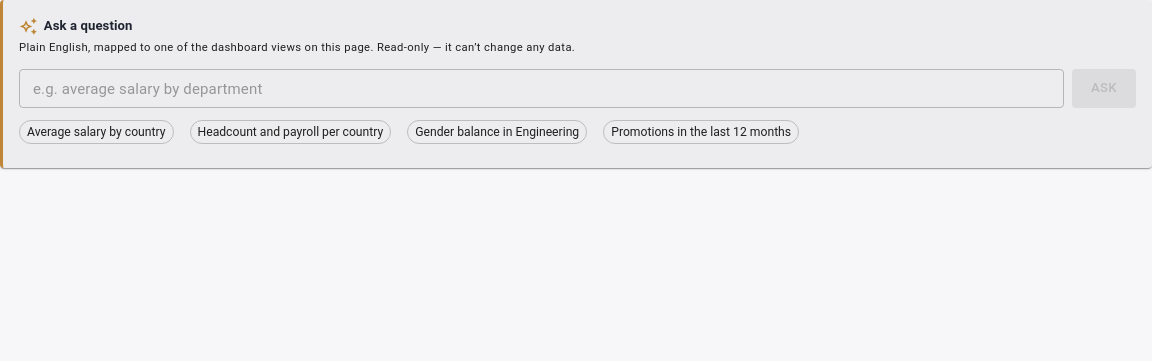
it: NLQueryBox › shows coercion notes when the backend adjusted a parameter
In the field named "Analytics question": (542,89) [19,69,1064,108], type "payroll trend forever"
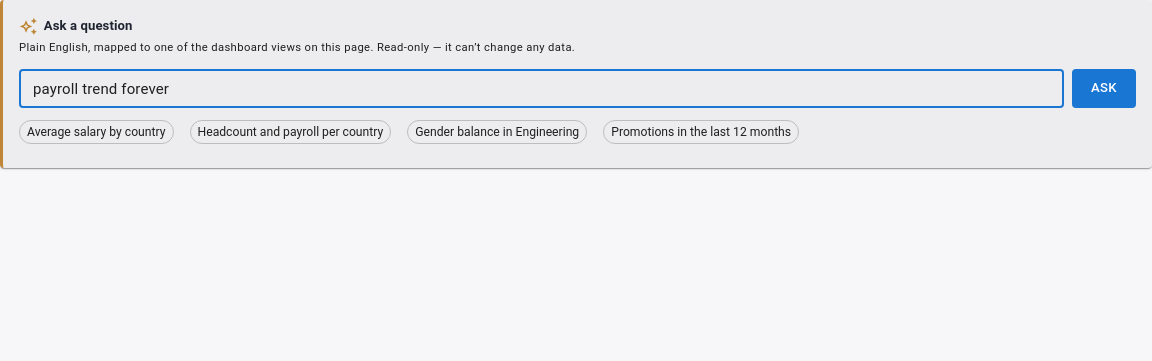
Click the button "Ask": (1104,89) [1072,69,1136,108]
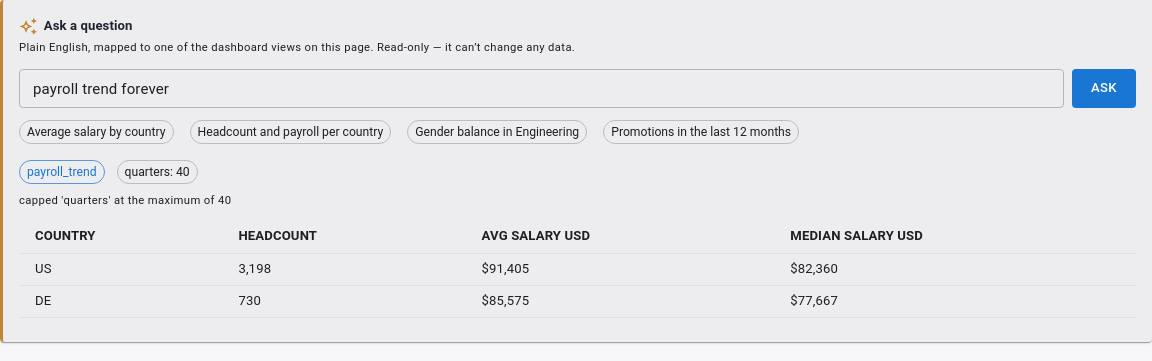
Expected: the text "capped 'quarters' at the maximum of 40" is shown, [19,194,232,207]
Expected: the text "quarters: 40" is shown, [124,165,190,179]
